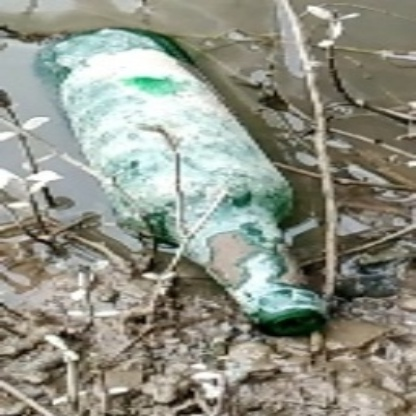bottle: (37, 22, 334, 337)
